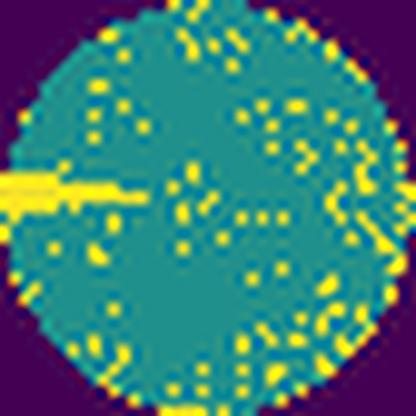Edge-Loc: (0, 169, 153, 223)
